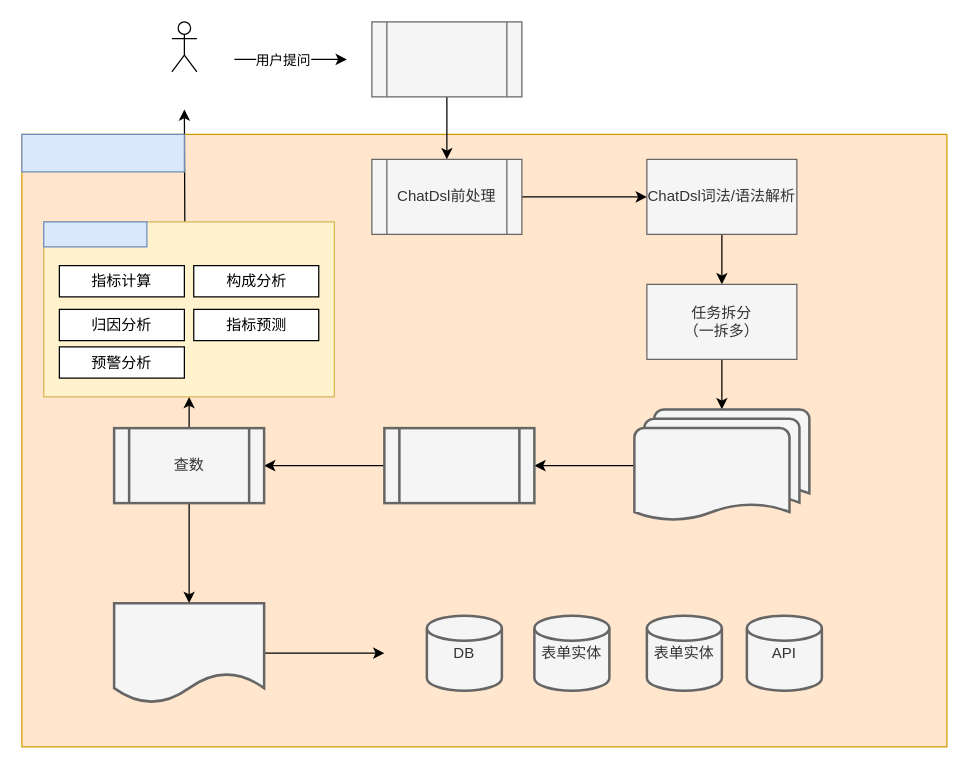
Image size: 969x769. Some labels were removed from this diagram. The centre of each missing label's shape, as x and y in pixels:
"Actor" goes at (x=184, y=46).
"ChatDSL规则取数引擎" goes at (x=102, y=152).
"数据后处理" goes at (x=94, y=234).
"查询任务" goes at (x=721, y=465).
"模型 ChatDSL 生成" goes at (x=446, y=59).
"虚表执行引擎" goes at (x=188, y=652).
"规则匹配与规则改写" goes at (x=458, y=465).
